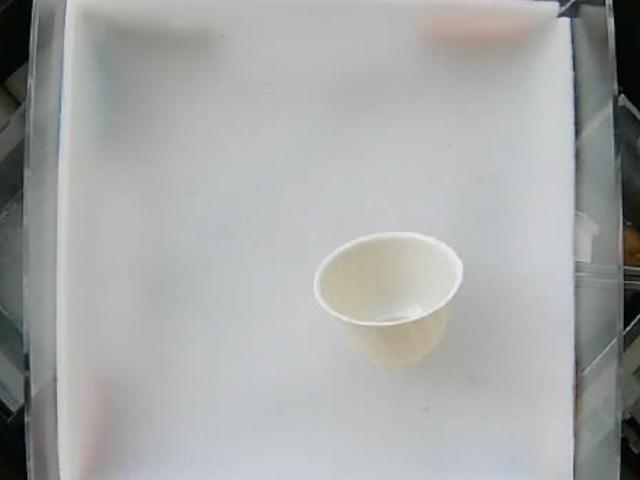Cup: (314, 232, 464, 364)
